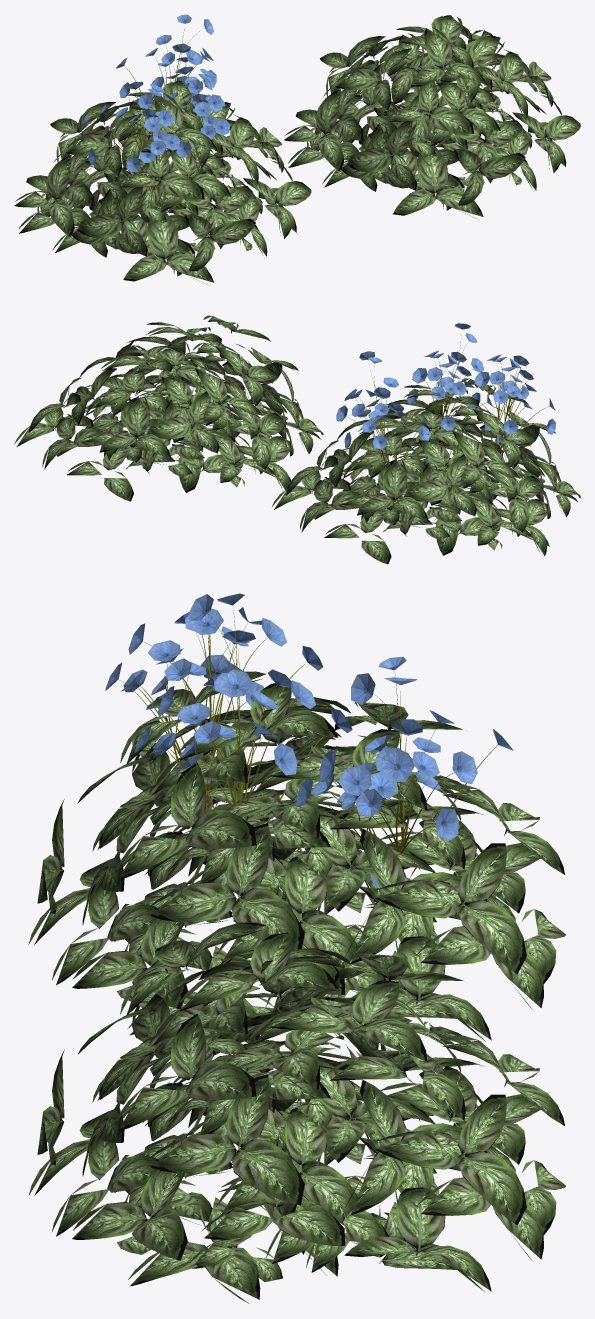
File: buush.obj
3 renders of one model, top to bottom at view 1: azimuth 30°, elevation 25°; view 2: azimuth 150°, elevation 25°; view 3: azimuth 270°, elevation 25°, orthographic. The views are drawn at different scales.
Parts seen in each view (by area): view 1: Untitled, EL3954ORHGZPGJ09GCDSRVB2P.001, EL3954ORHGZPGJ09GCDSRVB2P.005; view 2: Untitled, EL3954ORHGZPGJ09GCDSRVB2P.001, EL3954ORHGZPGJ09GCDSRVB2P.005; view 3: Untitled, EL3954ORHGZPGJ09GCDSRVB2P.001, EL3954ORHGZPGJ09GCDSRVB2P.005.
Boxes of the visible parts, x1,y1,x2,y2 form: Untitled: [14, 15, 580, 284]; EL3954ORHGZPGJ09GCDSRVB2P.001: [81, 14, 230, 186]; EL3954ORHGZPGJ09GCDSRVB2P.005: [88, 29, 223, 196]; Untitled: [14, 315, 580, 564]; EL3954ORHGZPGJ09GCDSRVB2P.001: [336, 323, 555, 449]; EL3954ORHGZPGJ09GCDSRVB2P.005: [348, 330, 549, 467]; Untitled: [28, 671, 565, 1303]; EL3954ORHGZPGJ09GCDSRVB2P.001: [105, 593, 513, 888]; EL3954ORHGZPGJ09GCDSRVB2P.005: [120, 595, 497, 880].
Size of the model in its own units: 5 by 1.77 by 2.26.
